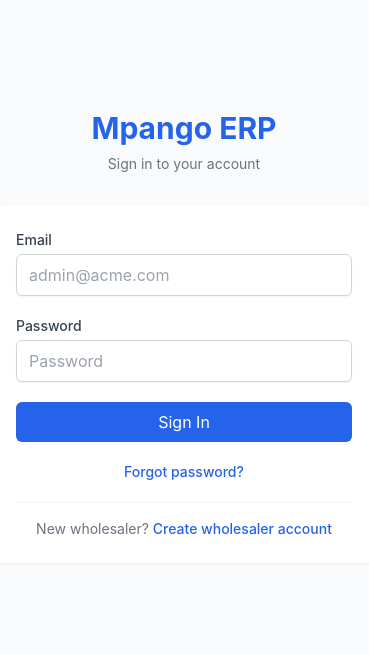
it: DC-12R1-MVP-L1-J1-R1-R1 signup contract truth › route mounting (real AppRouter) › renders the signup entry link on the login page and it resolves inside the real router
Click the link "Create wholesaler account" at (242, 528), box [153, 520, 332, 536]
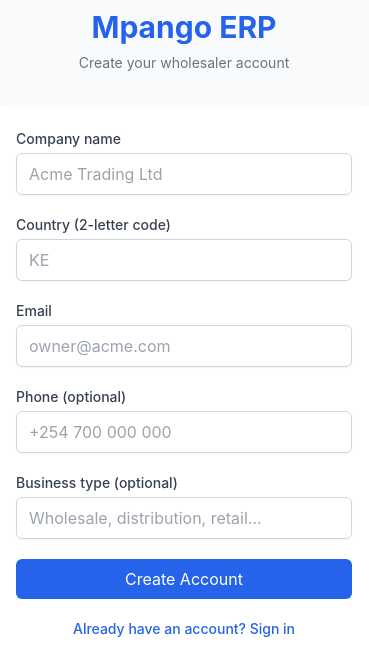
Check: the text "Create your wholesaler account" is shown, box [79, 54, 289, 71]
